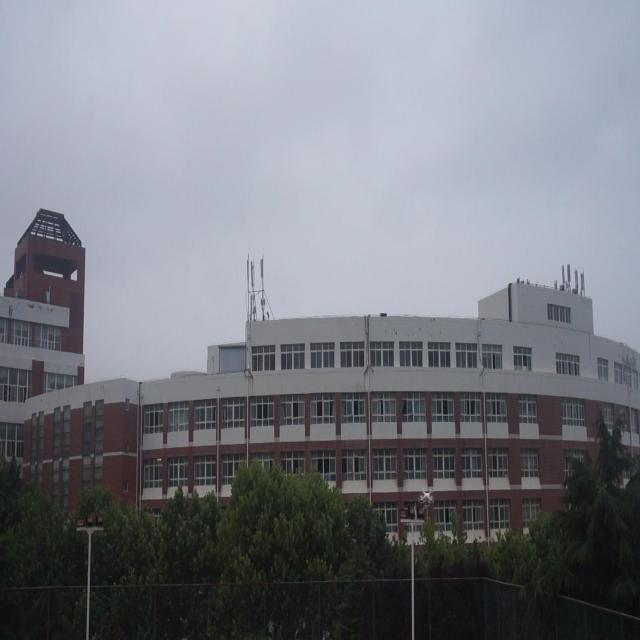UAV: (418, 487, 434, 507)
